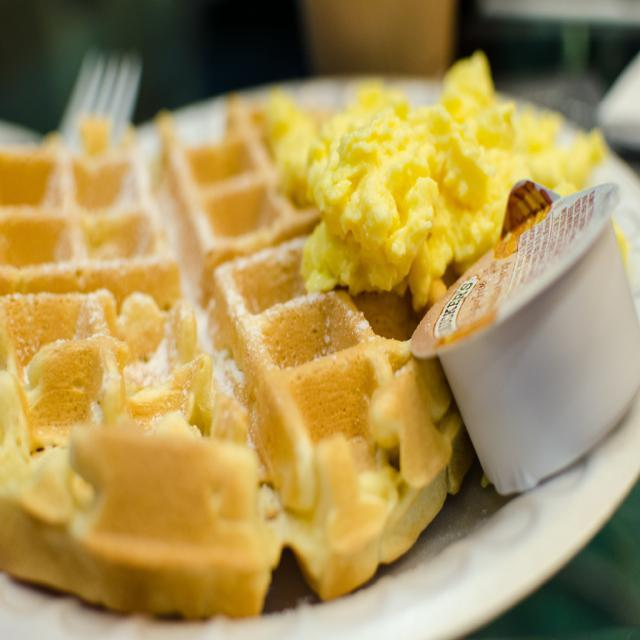Waffle: (0, 95, 473, 621)
